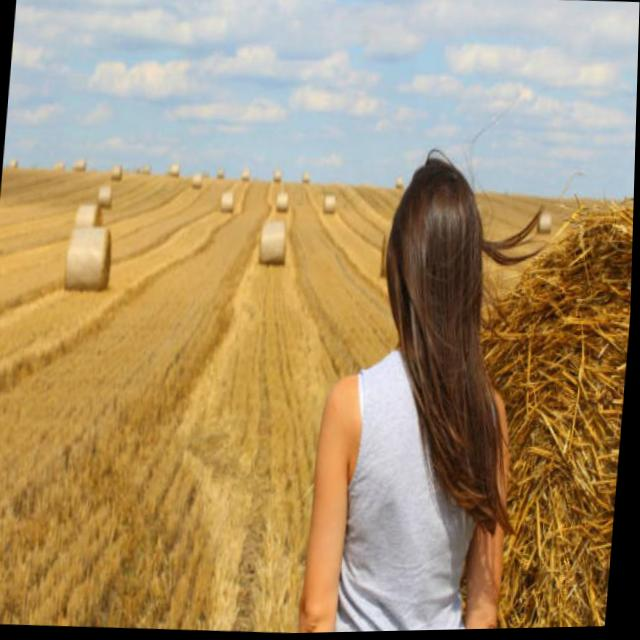no helmet: (358, 121, 519, 399)
